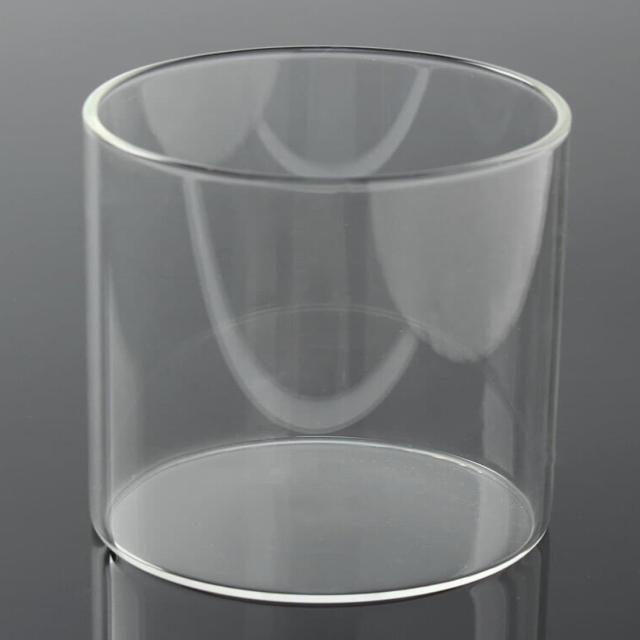recyclable: (67, 34, 579, 611)
